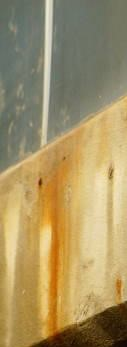Corrosion: (1, 94, 127, 347)
